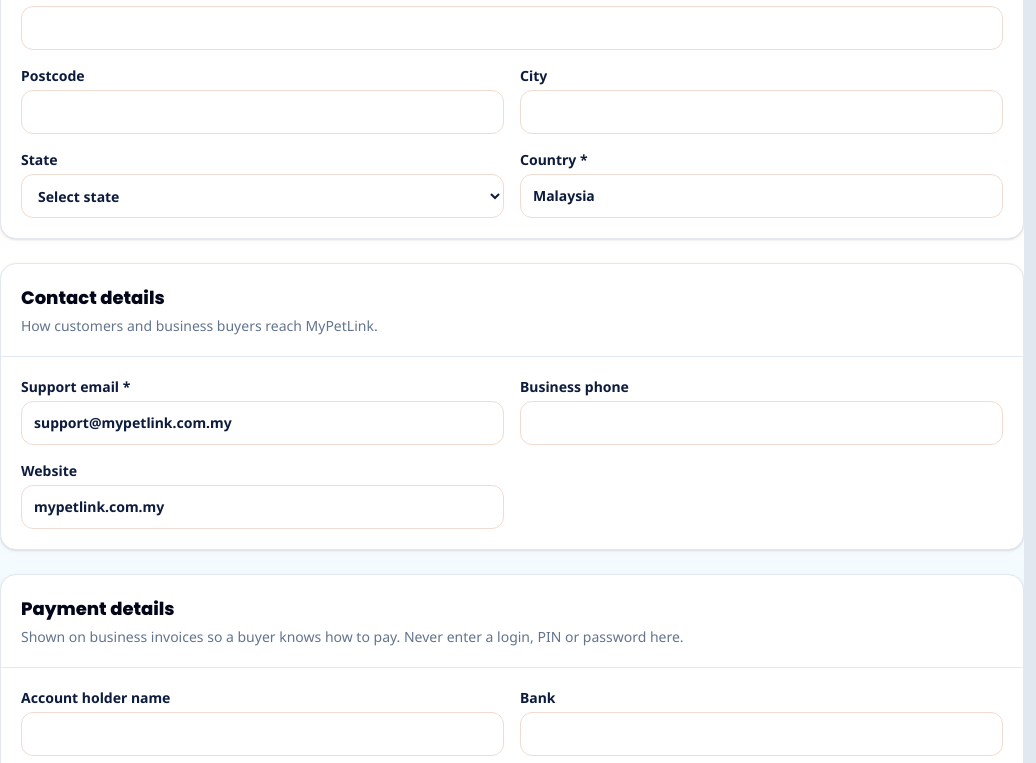
Scenario: AdminBusinessIdentityManager › cannot be saved until something has actually changed
This screenshot has width=1036, height=763.
(page scrolled)
Type "03-1234 5678" into the field labelled "Business phone" at (762, 423), box [520,401,1003,445]
(page scrolled)
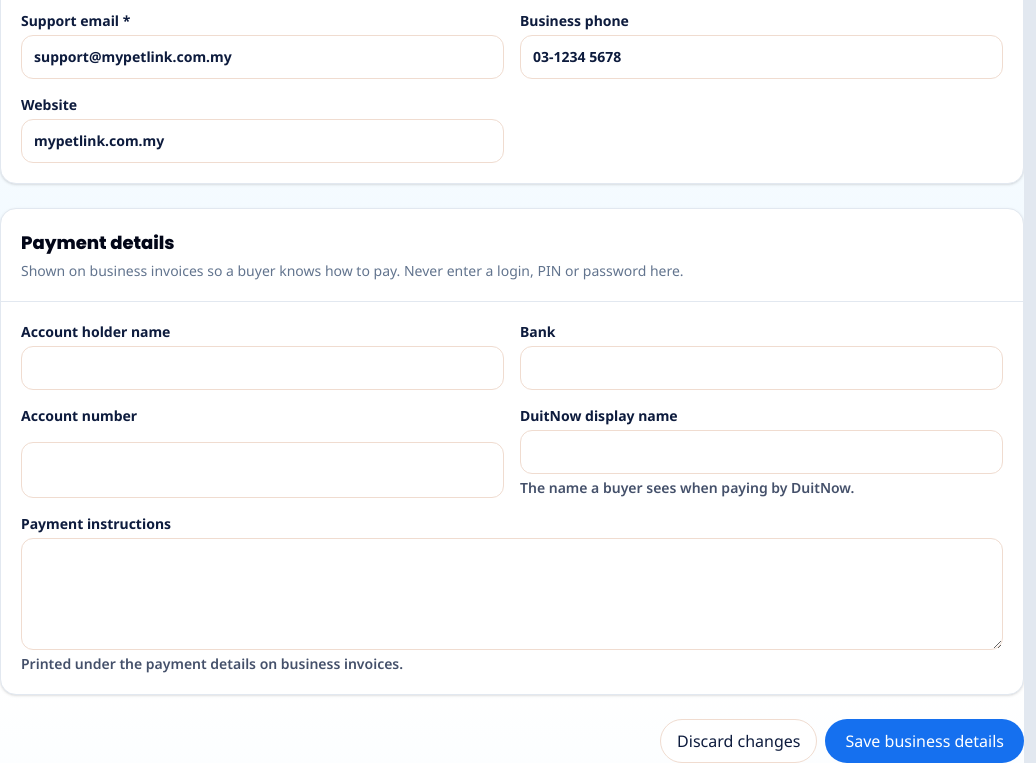
Expected: the button with test id "business-identity-save" is enabled, [826,719,1024,762]
